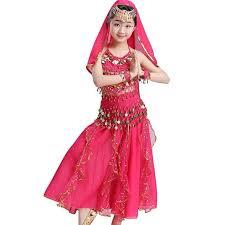Human: (70, 0, 165, 225)
